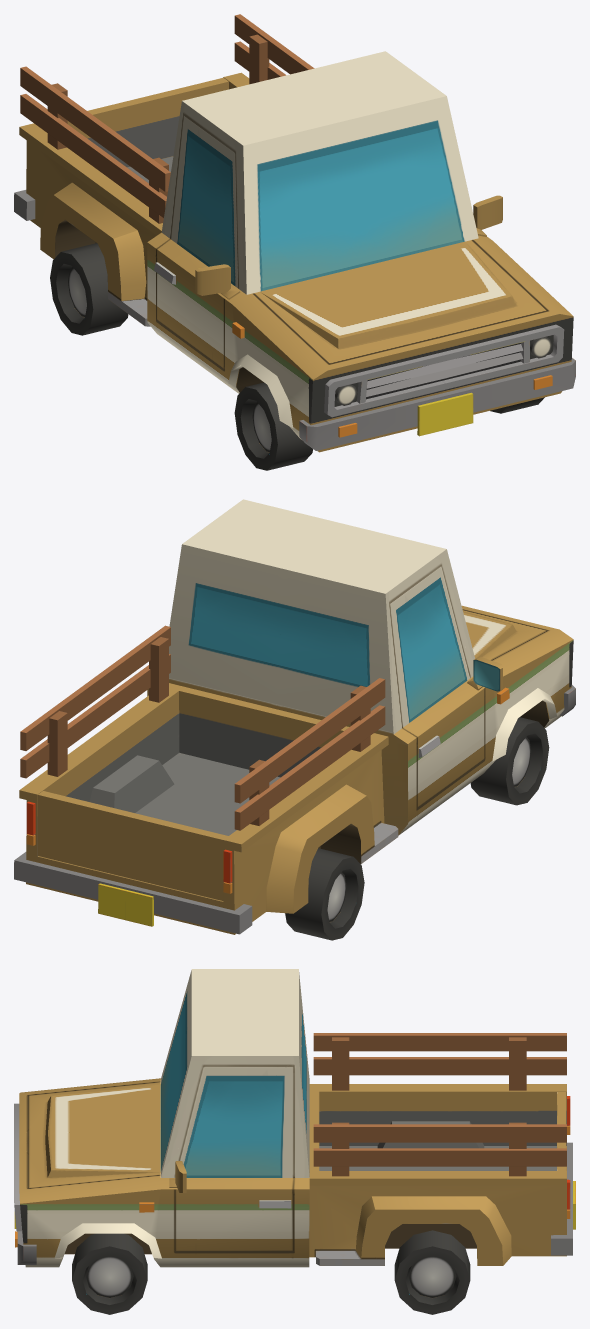
Rendered from pickup.fbx.
The picture shows the model from 3 angles, top to bottom: view 1: azimuth 30°, elevation 25°; view 2: azimuth 150°, elevation 25°; view 3: azimuth 270°, elevation 25°; orthographic projection. The views are drawn at different scales.
Parts seen in each view (by area): view 1: Cylinder002, WheelBR, WheelFR; view 2: Cylinder002, WheelBR, WheelFR; view 3: Cylinder002, WheelBL, WheerFL.
Part boxes in pixels (x1,y1,x2,y2): Cylinder002: (14,14,575,452); WheelBR: (50,243,128,335); WheelFR: (234,382,312,470); Cylinder002: (14,499,575,934); WheelBR: (285,848,364,940); WheelFR: (470,717,549,805); Cylinder002: (14,969,575,1267); WheelBL: (394,1230,470,1314); WheerFL: (72,1233,147,1314).
Bounding box in the file's own units: 85.8 × 75.02 × 156.
